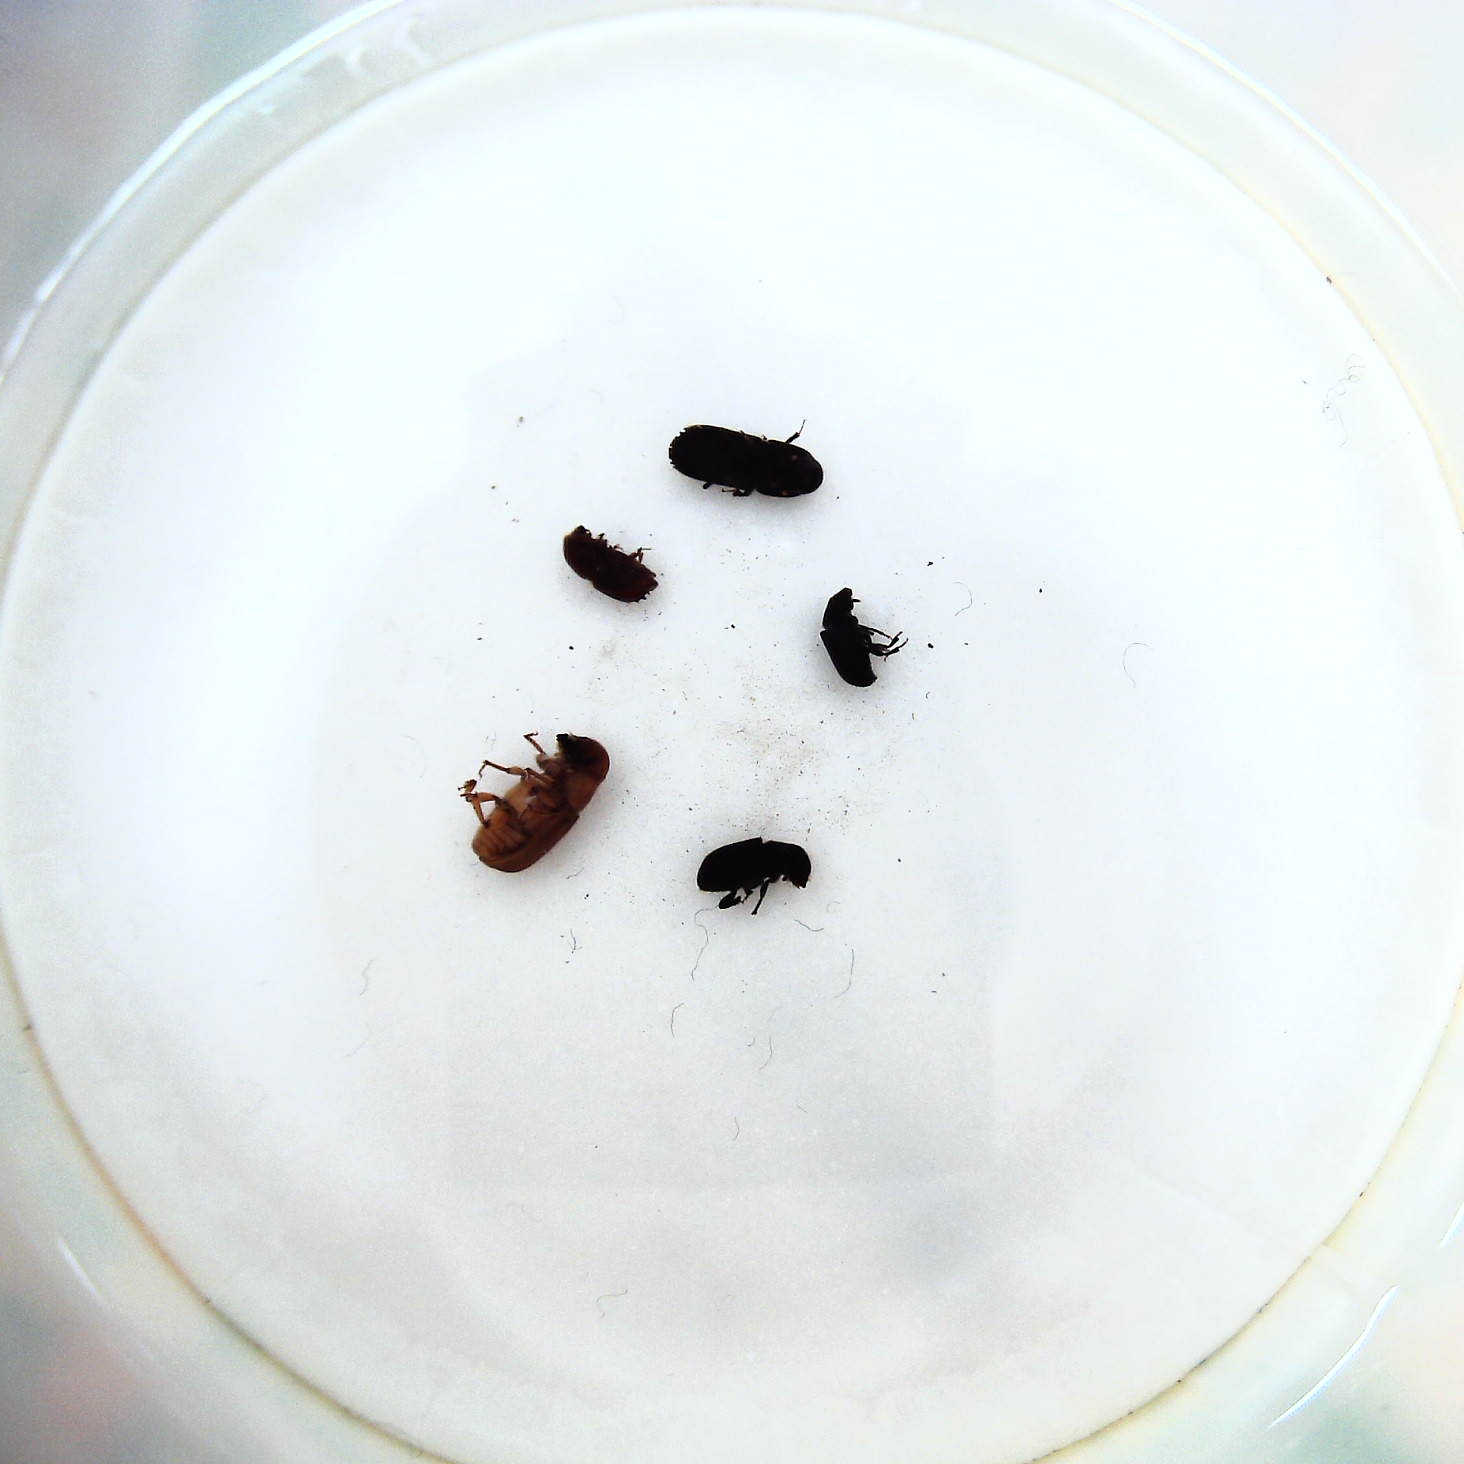Boerner: (665, 420, 826, 504)
Leconte: (460, 724, 614, 878)
armandi: (694, 834, 819, 922)
coleoptera: (819, 583, 908, 692)
linnaeus: (558, 524, 658, 611)
